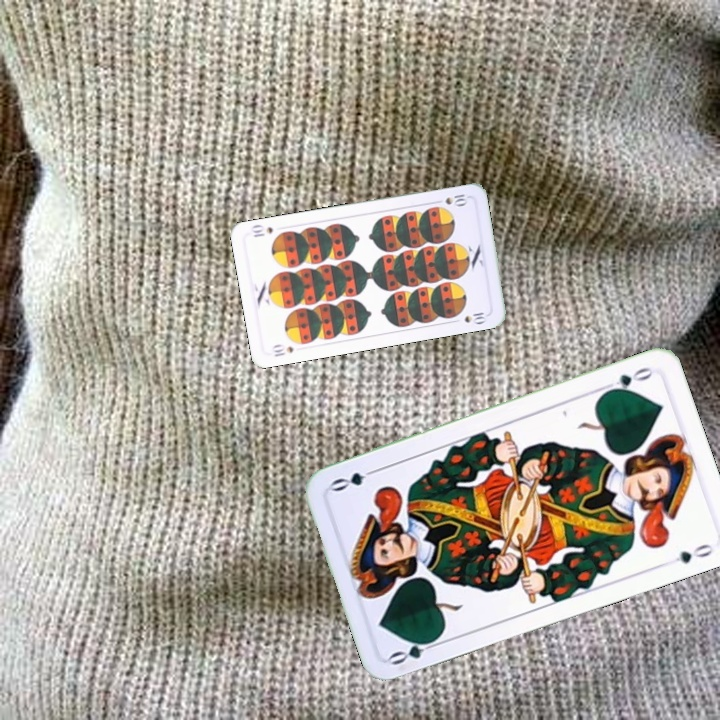GO: (386, 633, 444, 668), (599, 363, 656, 396)
S10: (430, 190, 470, 208), (268, 341, 296, 359)
